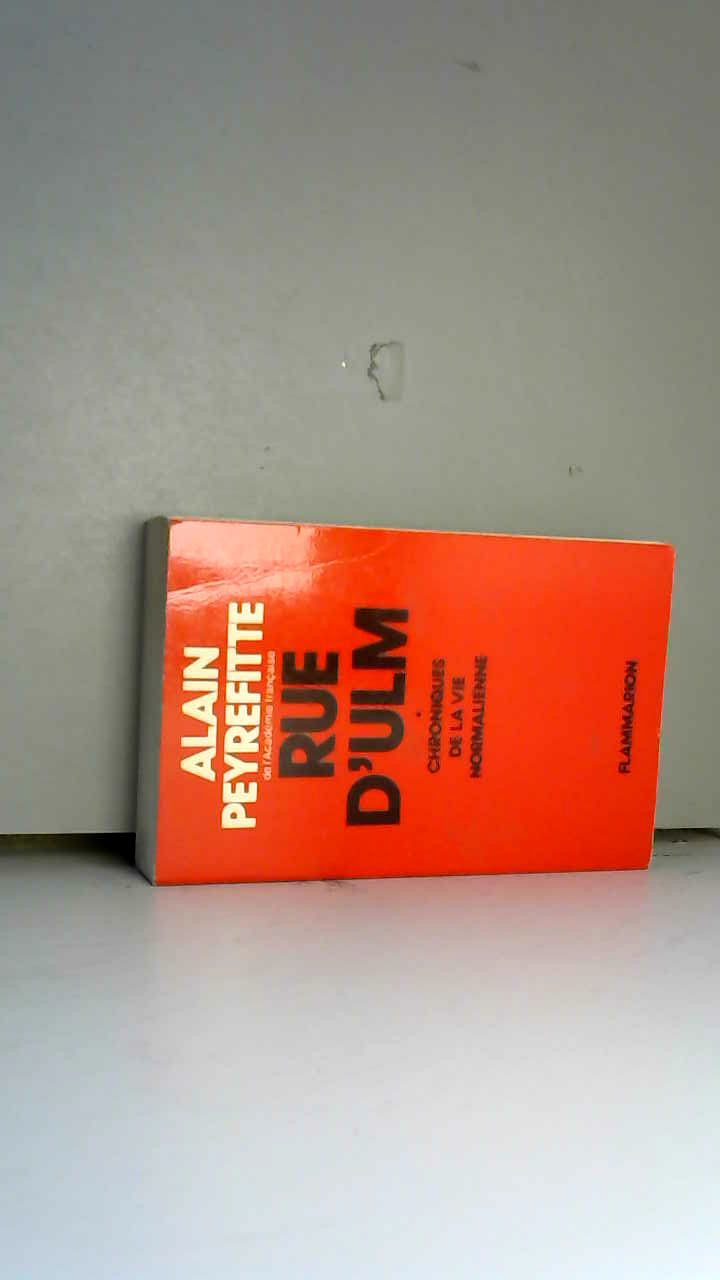book: (113, 497, 687, 902)
